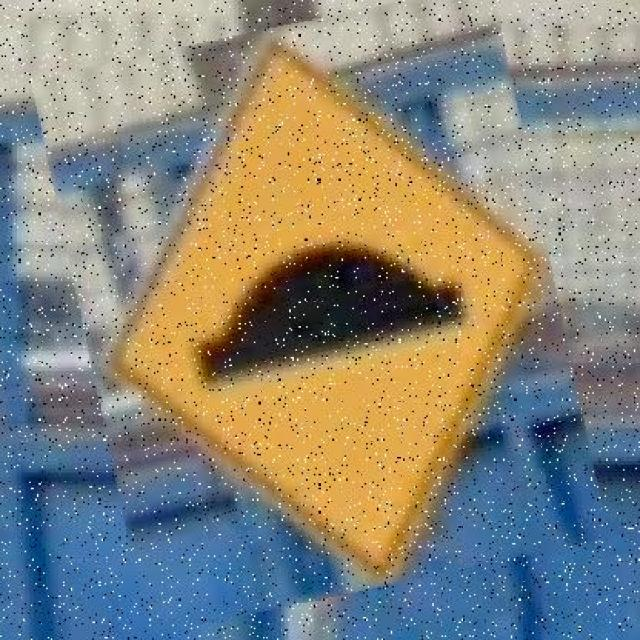Polisi Tidur: (58, 1, 582, 614)
